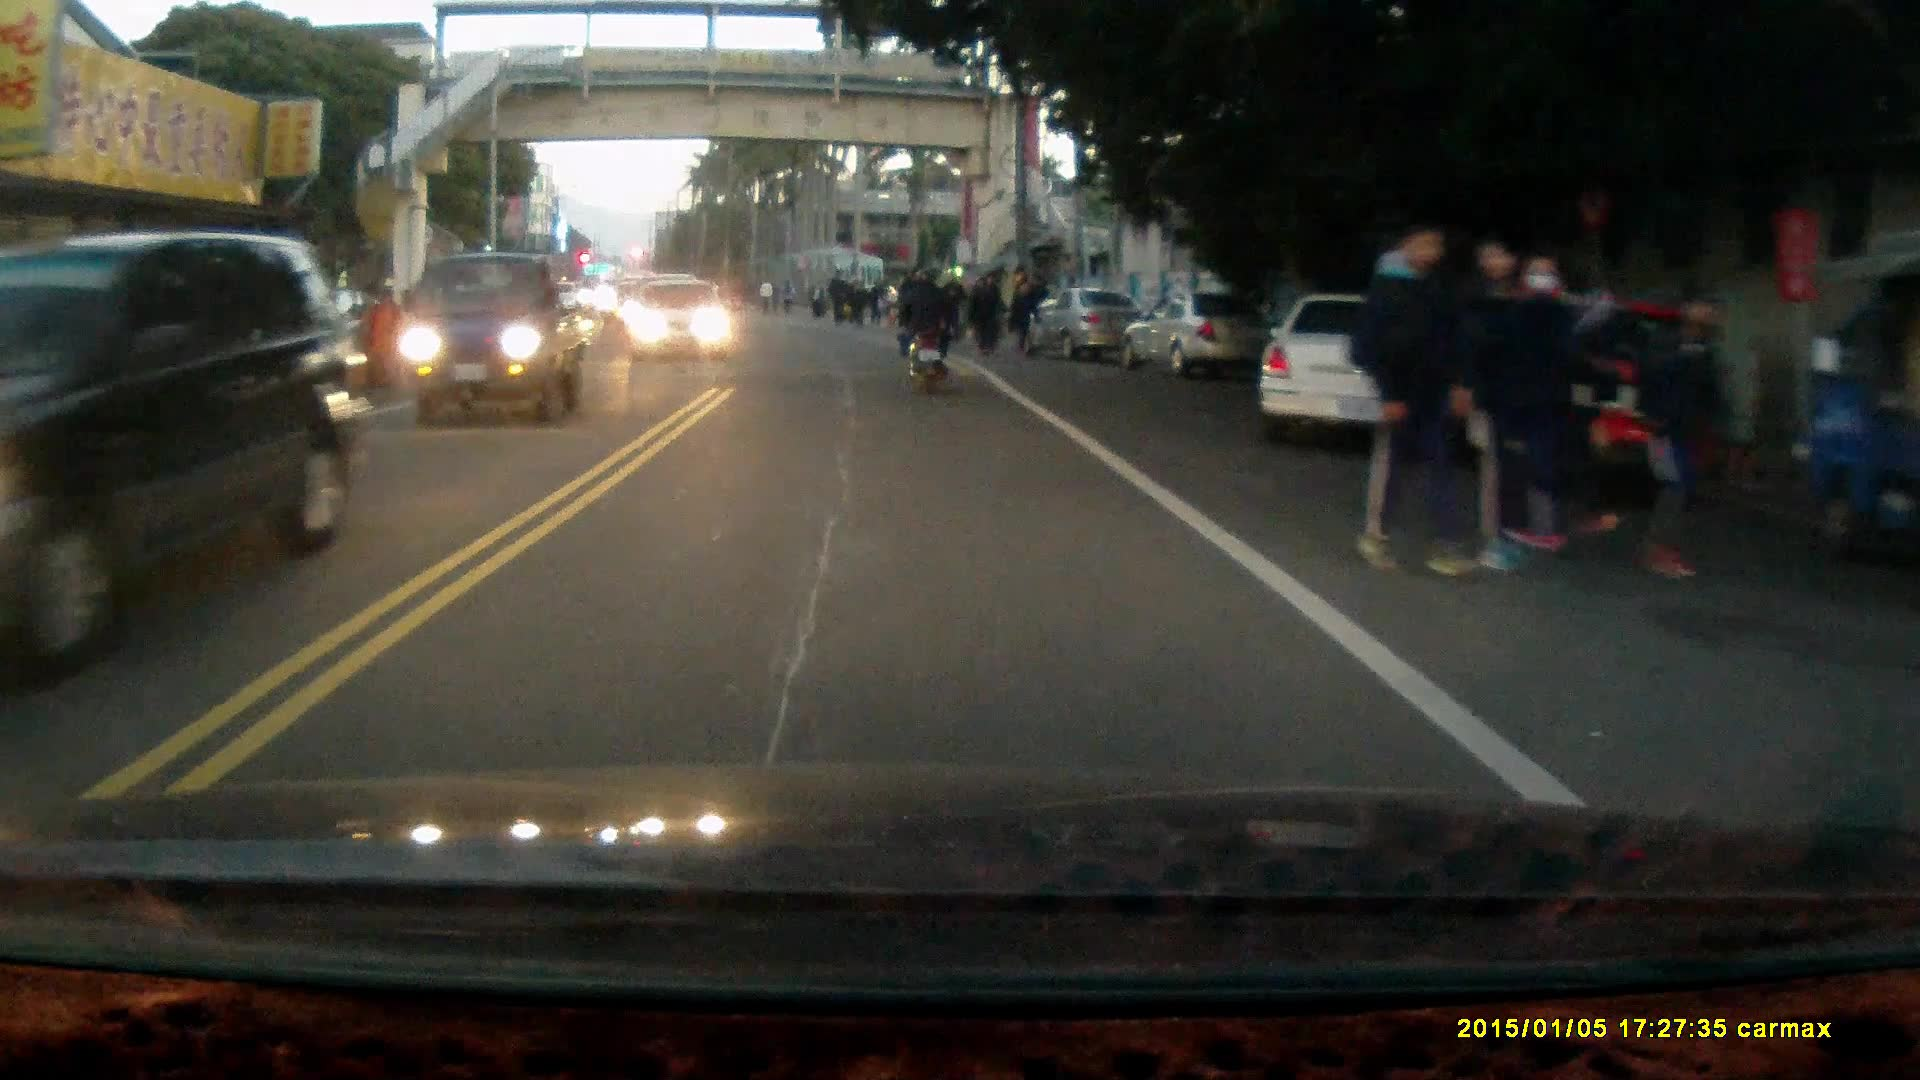pedestrian: (1465, 233, 1609, 581), (1347, 209, 1478, 584), (1631, 281, 1727, 581), (976, 263, 1005, 351), (968, 275, 995, 359), (1007, 280, 1035, 353)
rider: (886, 264, 952, 394)
vehicle: (1, 230, 384, 624), (1258, 288, 1476, 446), (402, 255, 594, 429), (1128, 288, 1266, 383), (1024, 290, 1151, 364), (630, 281, 731, 363)
